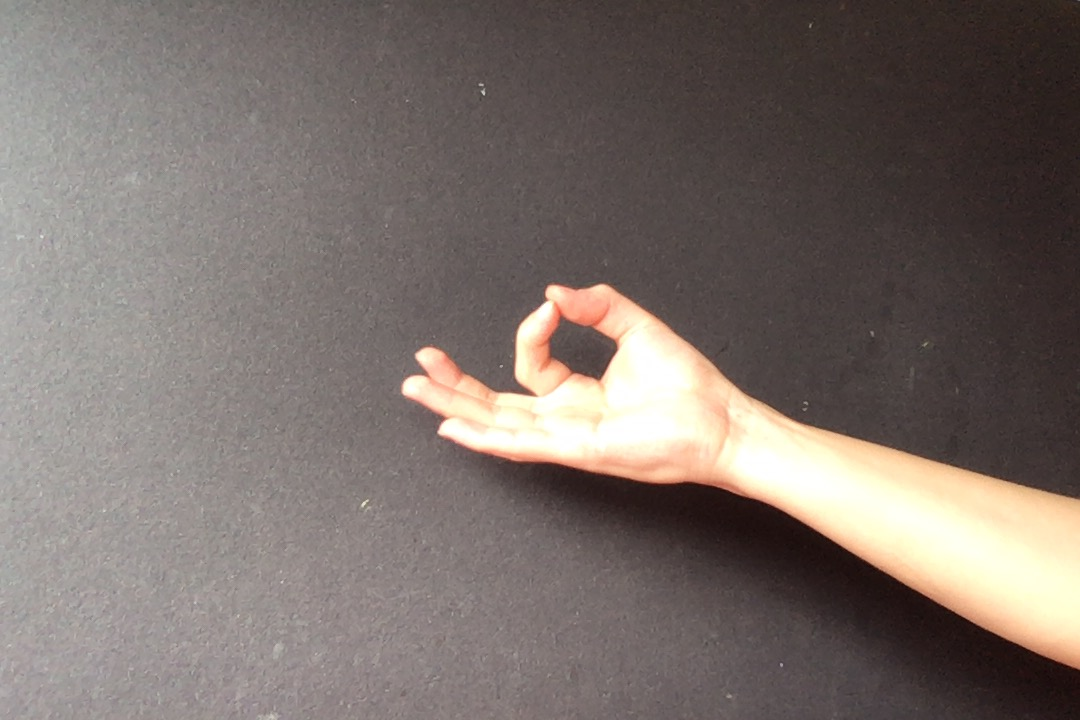oksign: (398, 276, 721, 489)
